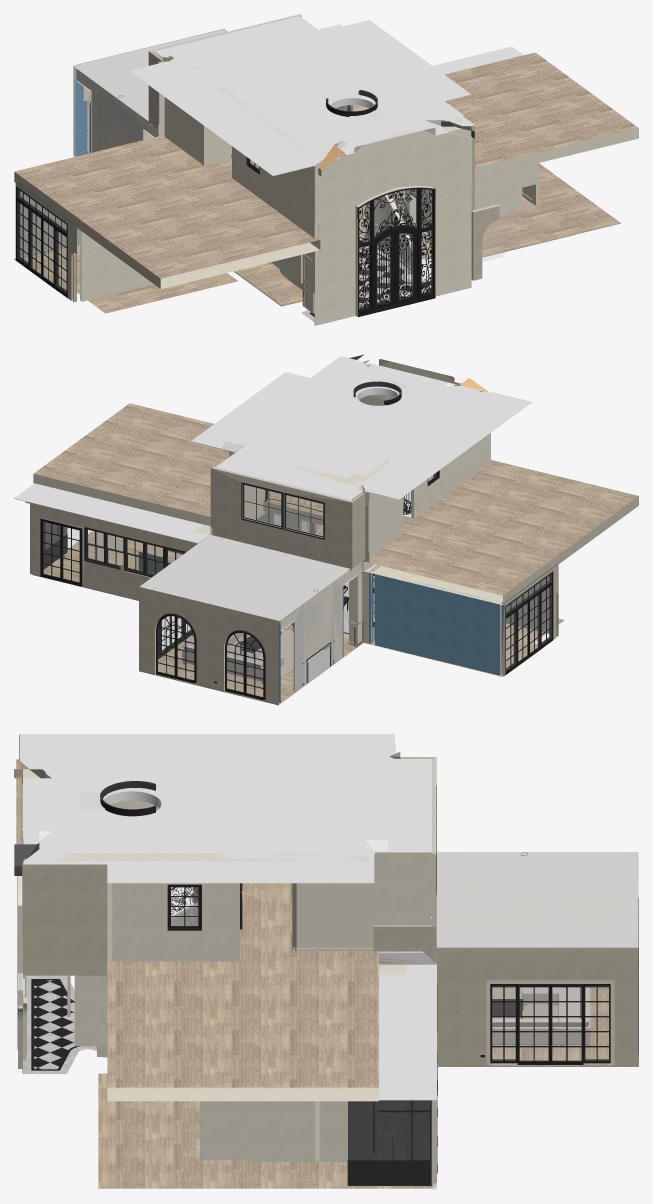
Rendered from family-room-f75eed9922be.glb.
3 views of the same model, one above another, from view 1: azimuth 30°, elevation 25°; view 2: azimuth 150°, elevation 25°; view 3: azimuth 270°, elevation 25° (orthographic). The views are drawn at different scales.
Visible parts, largest first — view 1: family-room-look-2575515a05775d9e, family-room-look-e8793759323e04f0, family-room-look-9d91b47435c6fb33, family-room-look-34525a54e63b733b, family-room-look-3b0077416469e01b, family-room-look-d5a4a1b5d3594c04, family-room-look-5f56640b372ec5ce, family-room-look-746250f96522f643, family-room-4a969f5cc1ae3dfe, family-room-look-bce662e26d5a5947, family-room-look-d999b7e09afcf2f4, family-room-9d80b152e3f2ea10 (+30 smaller); view 2: family-room-look-2575515a05775d9e, family-room-look-e8793759323e04f0, family-room-look-9d91b47435c6fb33, family-room-4a969f5cc1ae3dfe, family-room-look-b19b106fc304963c, family-room-look-245f595ae2832e16, family-room-969b861f9850351e, family-room-look-bfb9fa537cd11d1d, family-room-look-9a0e9ee9b2a451d7, family-room-9d80b152e3f2ea10, family-room-look-5f56640b372ec5ce, family-room-55ff1dfd7b659ec1 (+27 smaller); view 3: family-room-look-2575515a05775d9e, family-room-look-e8793759323e04f0, family-room-look-9d91b47435c6fb33, family-room-4a969f5cc1ae3dfe, family-room-look-3b0077416469e01b, family-room-e706aa16b4547c37, family-room-look-62353aa10fc57f23, family-room-50d54560d247b537, family-room-look-c51ecd664a3b22a3, family-room-look-9a0e9ee9b2a451d7, family-room-look-5f56640b372ec5ce, family-room-look-69af8f587252f9fa (+28 smaller).
Part boxes in pixels (box(x1,y1,x2,y2)): family-room-look-2575515a05775d9e: box(14, 52, 638, 288); family-room-look-e8793759323e04f0: box(180, 23, 463, 157); family-room-look-9d91b47435c6fb33: box(130, 16, 474, 175); family-room-look-34525a54e63b733b: box(314, 126, 471, 244); family-room-look-3b0077416469e01b: box(14, 163, 620, 306); family-room-look-d5a4a1b5d3594c04: box(314, 208, 471, 325); family-room-look-5f56640b372ec5ce: box(254, 81, 404, 139); family-room-look-746250f96522f643: box(232, 146, 317, 238); family-room-4a969f5cc1ae3dfe: box(73, 29, 226, 120); family-room-look-bce662e26d5a5947: box(357, 187, 435, 316); family-room-look-d999b7e09afcf2f4: box(80, 230, 153, 301); family-room-9d80b152e3f2ea10: box(76, 69, 158, 152); family-room-look-2575515a05775d9e: box(33, 403, 638, 604); family-room-look-e8793759323e04f0: box(222, 356, 481, 486); family-room-look-9d91b47435c6fb33: box(191, 362, 532, 500); family-room-4a969f5cc1ae3dfe: box(139, 534, 349, 621); family-room-look-b19b106fc304963c: box(375, 573, 501, 675); family-room-look-245f595ae2832e16: box(210, 467, 352, 568); family-room-969b861f9850351e: box(139, 587, 280, 704); family-room-look-bfb9fa537cd11d1d: box(30, 502, 197, 600); family-room-look-9a0e9ee9b2a451d7: box(14, 483, 208, 543); family-room-9d80b152e3f2ea10: box(280, 562, 362, 690); family-room-look-5f56640b372ec5ce: box(324, 377, 464, 430); family-room-55ff1dfd7b659ec1: box(281, 562, 362, 692); family-room-look-2575515a05775d9e: box(16, 759, 378, 1101); family-room-look-e8793759323e04f0: box(39, 756, 388, 861); family-room-look-9d91b47435c6fb33: box(19, 734, 431, 883); family-room-4a969f5cc1ae3dfe: box(436, 852, 638, 948); family-room-look-3b0077416469e01b: box(98, 920, 436, 1188); family-room-e706aa16b4547c37: box(437, 948, 633, 1065); family-room-look-62353aa10fc57f23: box(23, 865, 112, 975); family-room-50d54560d247b537: box(436, 852, 638, 948); family-room-look-c51ecd664a3b22a3: box(112, 883, 239, 961); family-room-look-9a0e9ee9b2a451d7: box(379, 964, 436, 1100); family-room-look-5f56640b372ec5ce: box(83, 756, 196, 825); family-room-look-69af8f587252f9fa: box(292, 883, 373, 947).
Size of the model in its own units: 21.02 by 7.02 by 16.88.
68 materials, 12 textured.
